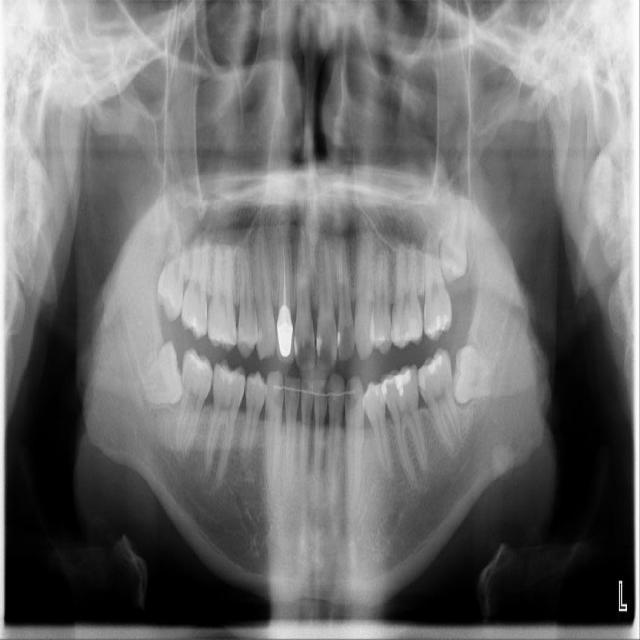3M ESPE Implant: (153, 221, 193, 322)
52: (380, 364, 422, 426), (413, 346, 456, 406), (419, 285, 457, 345), (389, 292, 424, 351), (315, 304, 339, 372), (293, 307, 317, 372), (275, 305, 296, 366), (335, 309, 356, 361)
73: (278, 237, 292, 313)
BioHorizons Implant: (421, 232, 455, 343)
BioLife Implant: (439, 197, 467, 280)
Biomet 3i Implant: (449, 343, 498, 410)
Blue Sky Bio Implant: (412, 345, 465, 458)
Caries: (180, 237, 207, 342)
Implant: (174, 347, 214, 456)
Keystone Dental Implant: (130, 338, 191, 413)
